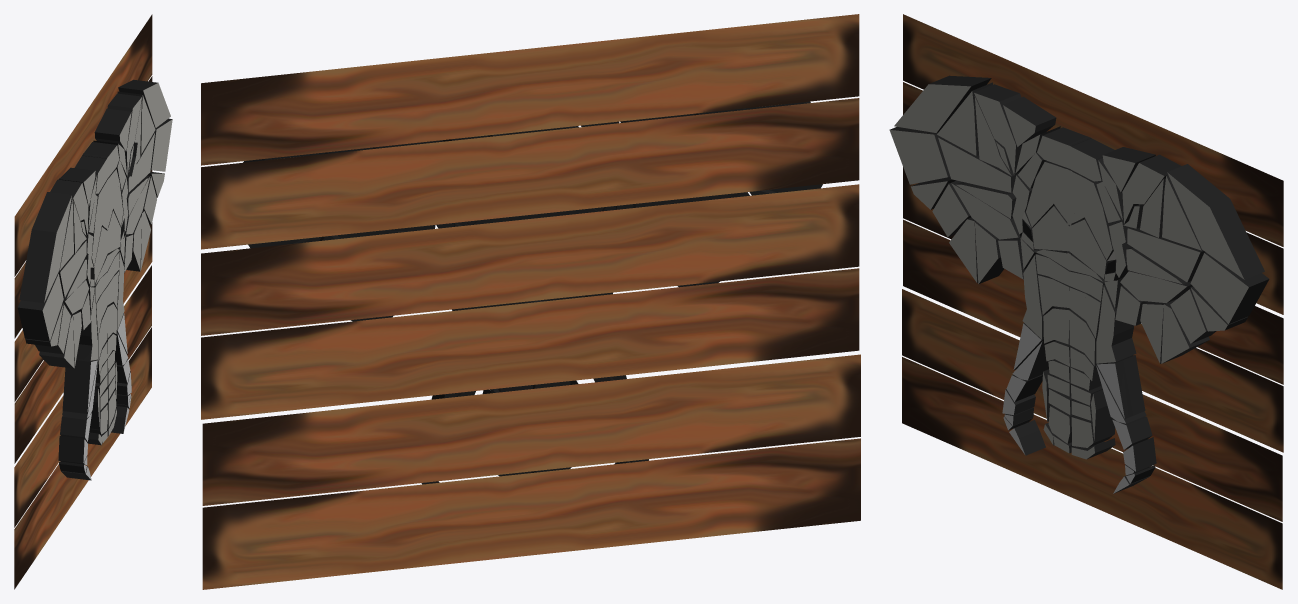
File: wood2.glb
The picture shows the model from 3 angles, left to right: view 1: azimuth 30°, elevation 25°; view 2: azimuth 150°, elevation 25°; view 3: azimuth 270°, elevation 25°; orthographic projection. The views are drawn at different scales.
Visible parts, largest first — view 1: Plane.002; view 2: Plane.002; view 3: Plane.002.
Boxes of the visible parts, x1,y1,x2,y2 form: Plane.002: [14, 14, 172, 589]; Plane.002: [201, 14, 860, 589]; Plane.002: [889, 14, 1283, 589].
Bounding box in the file's own units: 2.97 × 3.35 × 2.92.
Materials: 4 (1 with a texture image).
